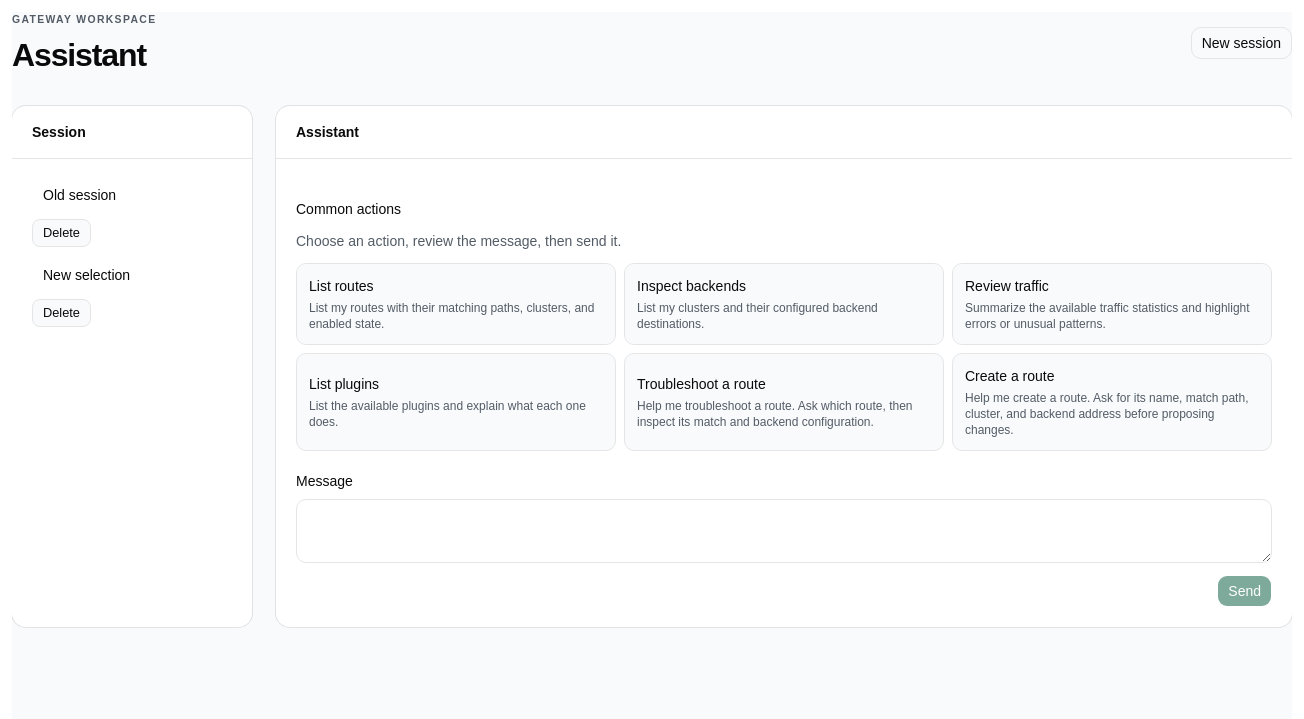
it: stale query results › shows assistant message errors and ignores obsolete session reads
This screenshot has width=1304, height=719.
Click the button "Old session": (132, 195) [32, 179, 232, 211]
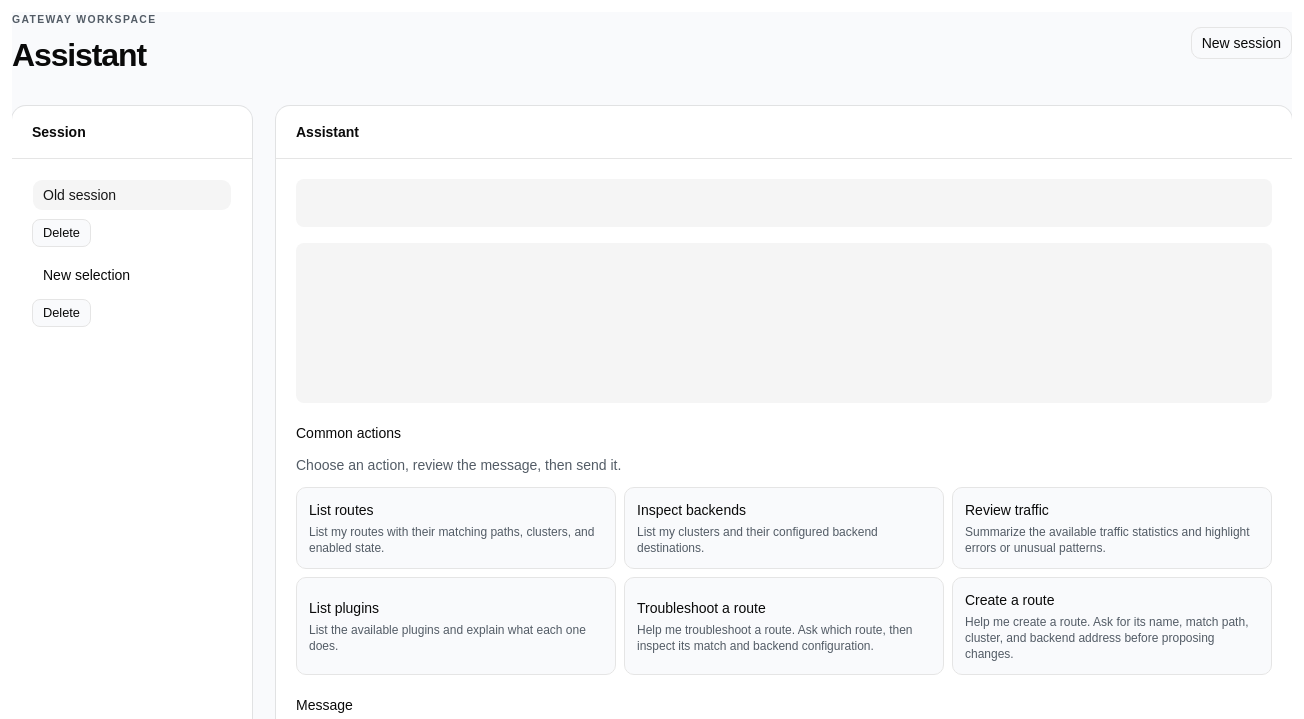
Click the button "New selection": (132, 275) [32, 259, 232, 291]
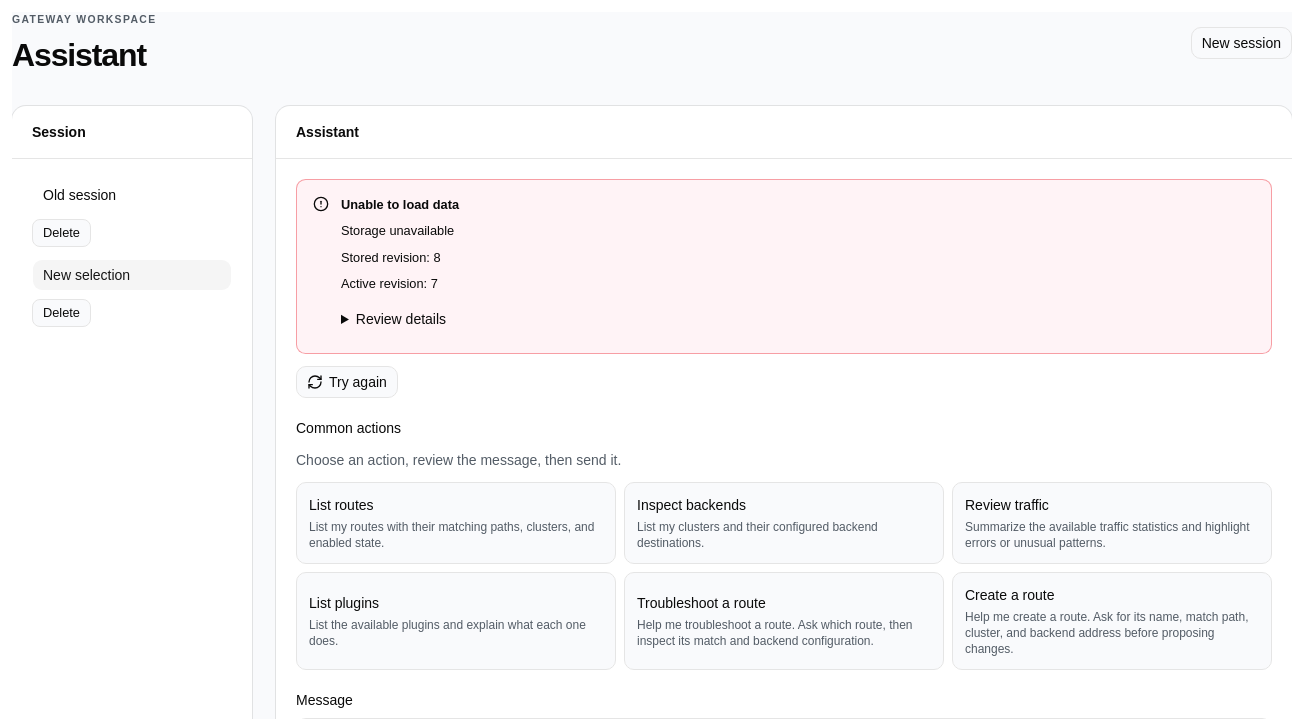
Result: the message shows "Storage unavailable" at [341, 223, 454, 238]
